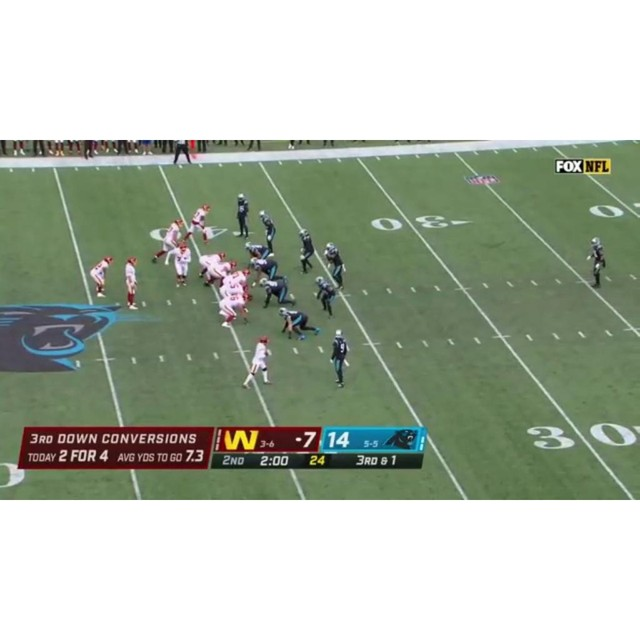american-football-player: (150, 219, 185, 266), (242, 335, 272, 389), (277, 308, 316, 341), (218, 291, 252, 328), (183, 203, 211, 245), (330, 329, 349, 388), (586, 236, 607, 288), (260, 278, 295, 308), (324, 243, 346, 290), (89, 255, 113, 298), (314, 276, 337, 319), (248, 258, 279, 287), (124, 256, 140, 309), (298, 228, 316, 274), (198, 250, 226, 279), (173, 243, 191, 288), (259, 211, 277, 254), (234, 192, 250, 238), (244, 242, 272, 264)
